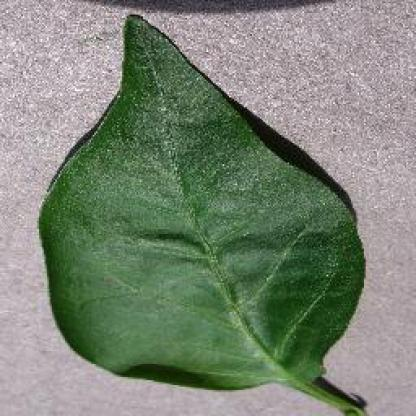good leaf: (57, 16, 336, 381)
